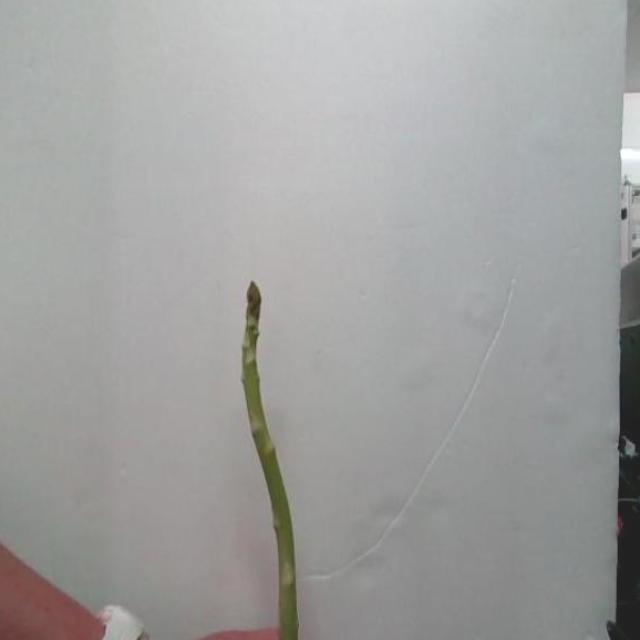aspargus: (241, 284, 300, 640)
